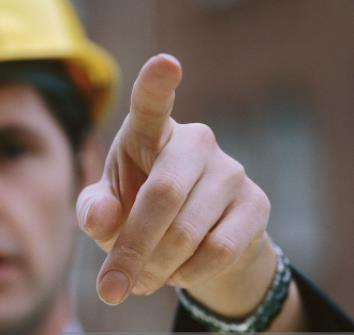up: (69, 48, 264, 306)
